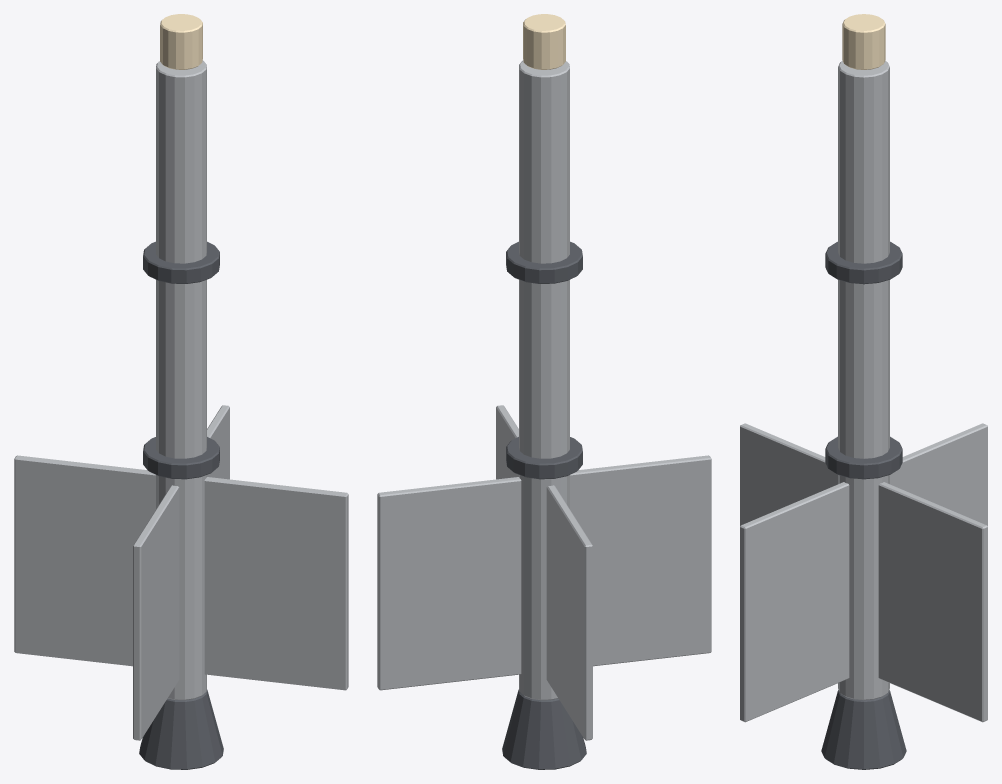
File: SM_TitheMarkerBuoy.fbx
The picture shows the model from 3 angles, left to right: view 1: azimuth 30°, elevation 25°; view 2: azimuth 150°, elevation 25°; view 3: azimuth 270°, elevation 25°; orthographic projection.
Parts seen in each view (by area): view 1: SM_TitheMarkerBuoy; view 2: SM_TitheMarkerBuoy; view 3: SM_TitheMarkerBuoy.
Part boxes in pixels (<box>): SM_TitheMarkerBuoy: <box>14,14,348,769</box>; SM_TitheMarkerBuoy: <box>377,14,711,769</box>; SM_TitheMarkerBuoy: <box>740,14,987,769</box>.
Size of the model in its own units: 57.56 by 187 by 57.56.
